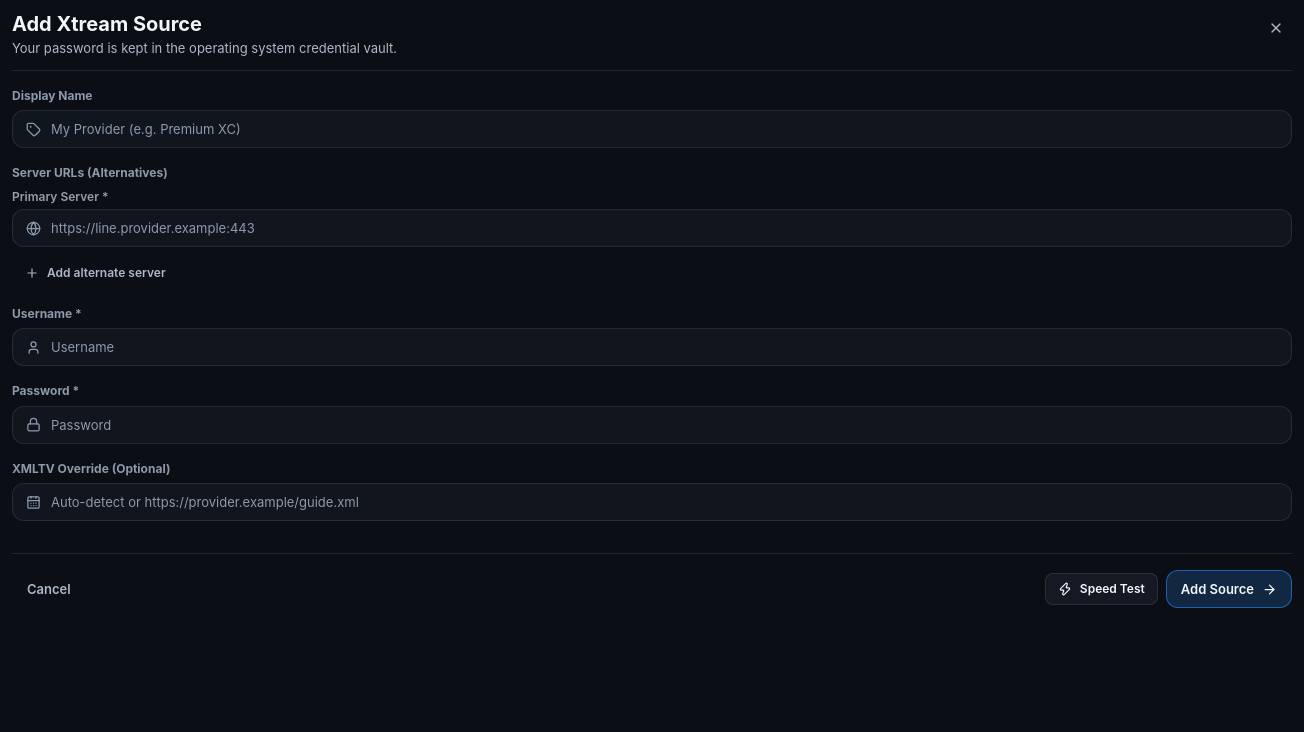
it: unified source settings › associates every Xtream field label with its control
Expected: the field labelled "Display Name" is shown, top-left (12, 110), bottom-right (1292, 148)
Expected: the field labelled "Primary Server *" is shown, top-left (12, 209), bottom-right (1292, 247)
Step 1. Click the button "Add alternate server" → point(95, 273), box top-left (12, 257), bottom-right (179, 289)
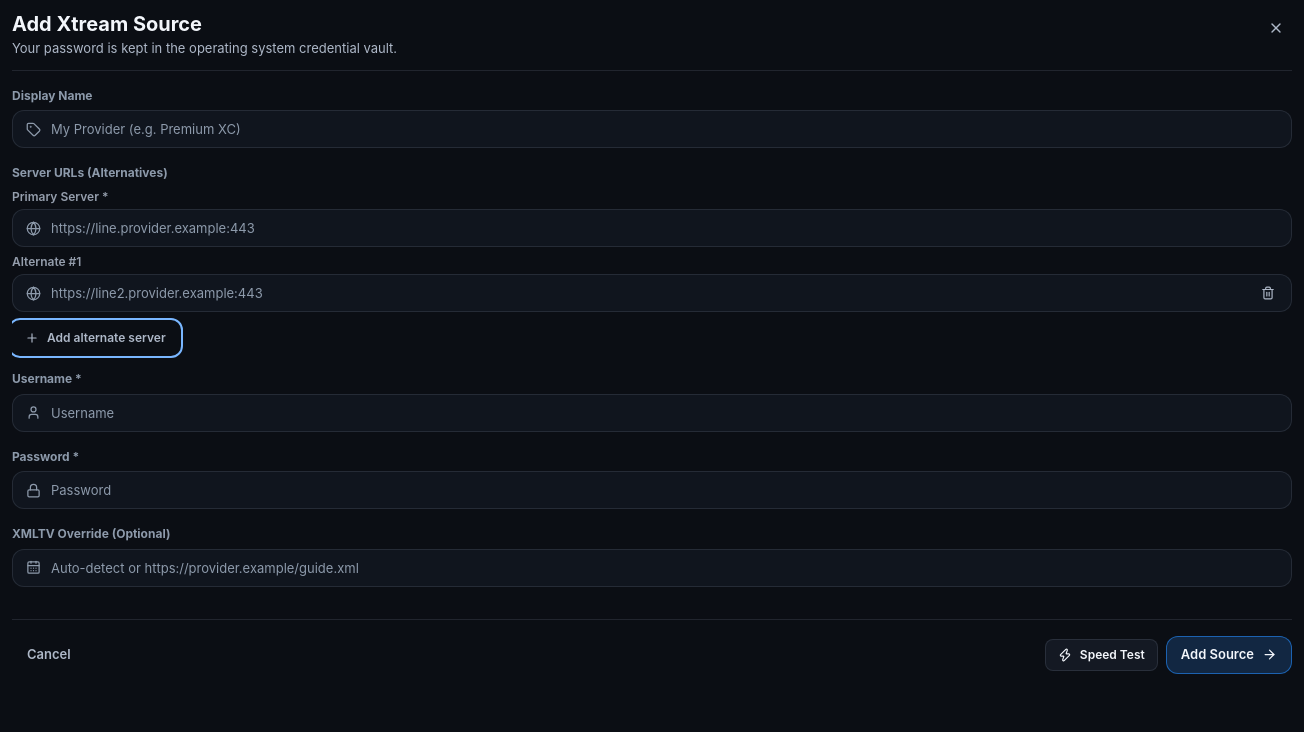
Result: the field labelled "Alternate #1" is shown at top-left (12, 274), bottom-right (1292, 312)
Result: the button named "Remove alternate server 1" is shown at top-left (1252, 277), bottom-right (1284, 309)
